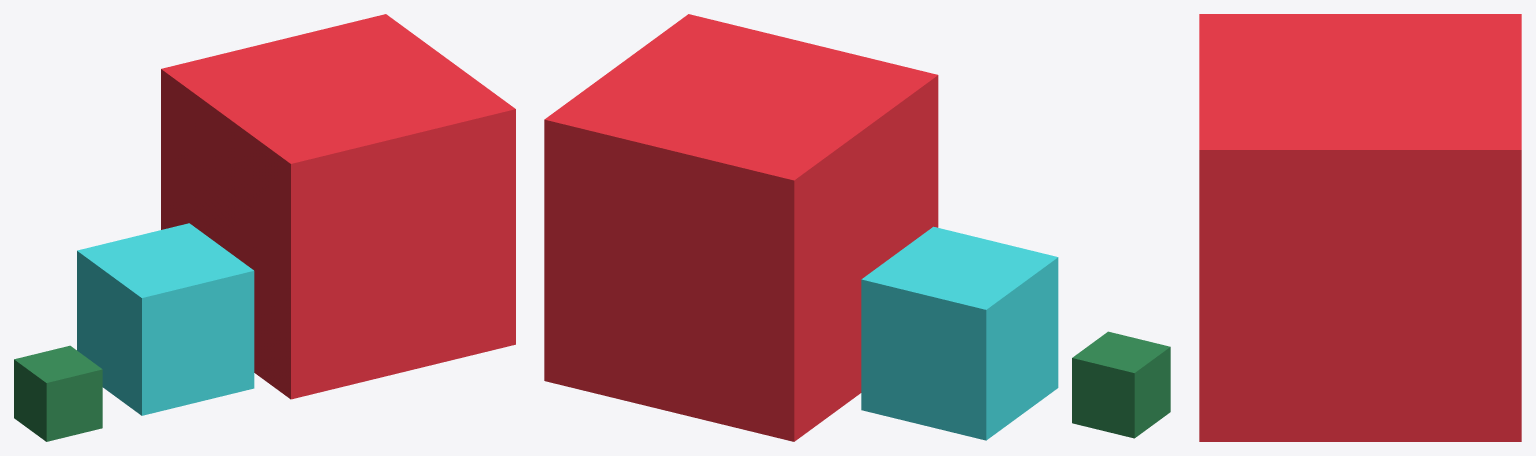
Rendered from ugly_cubes.fbx.
The picture shows the model from 3 angles, left to right: view 1: azimuth 30°, elevation 25°; view 2: azimuth 150°, elevation 25°; view 3: azimuth 270°, elevation 25°; orthographic projection. The views are drawn at different scales.
Visible parts, largest first — view 1: Box001, Box002, Box003; view 2: Box001, Box002, Box003; view 3: Box001.
Part boxes in pixels (x1,y1,x2,y2): Box001: (161,14,515,399); Box002: (77,223,254,415); Box003: (14,345,102,441); Box001: (544,14,938,441); Box002: (861,226,1058,440); Box003: (1072,331,1170,438); Box001: (1199,14,1521,441).
Size of the model in its own units: 201 by 100 by 100.
